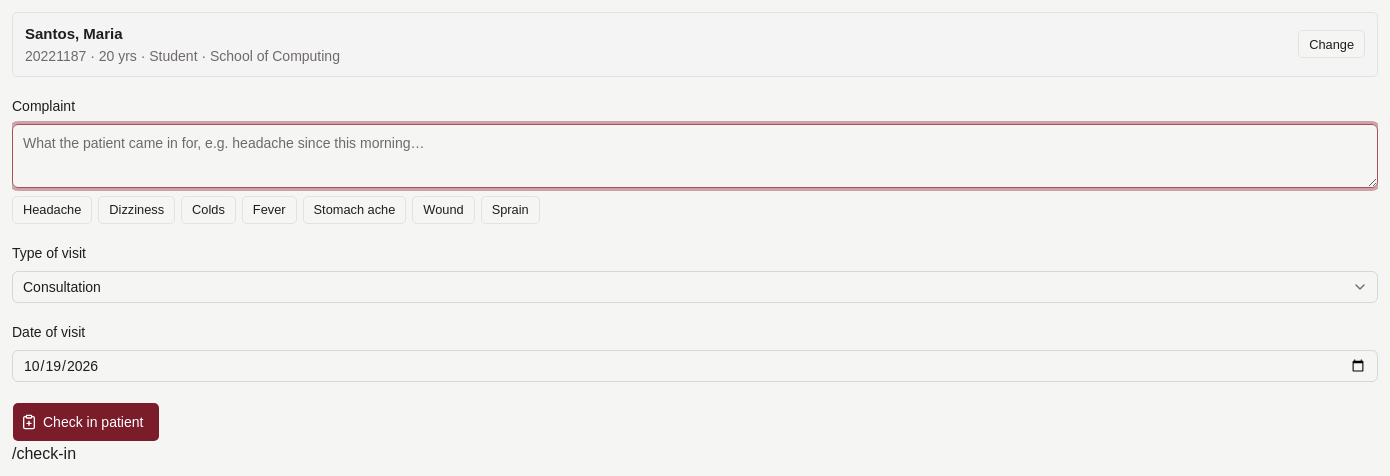
Test: starts with the patient named in the address already chosen
This screenshot has width=1390, height=476.
Check: the text "Santos, Maria" is shown, box x1=25 y1=25 x2=122 y2=42
Check: the text box labelled "Complaint" is shown, box x1=12 y1=124 x2=1378 y2=188
Click the button "Change": coordinates (1332, 44) x1=1298 y1=30 x2=1365 y2=58
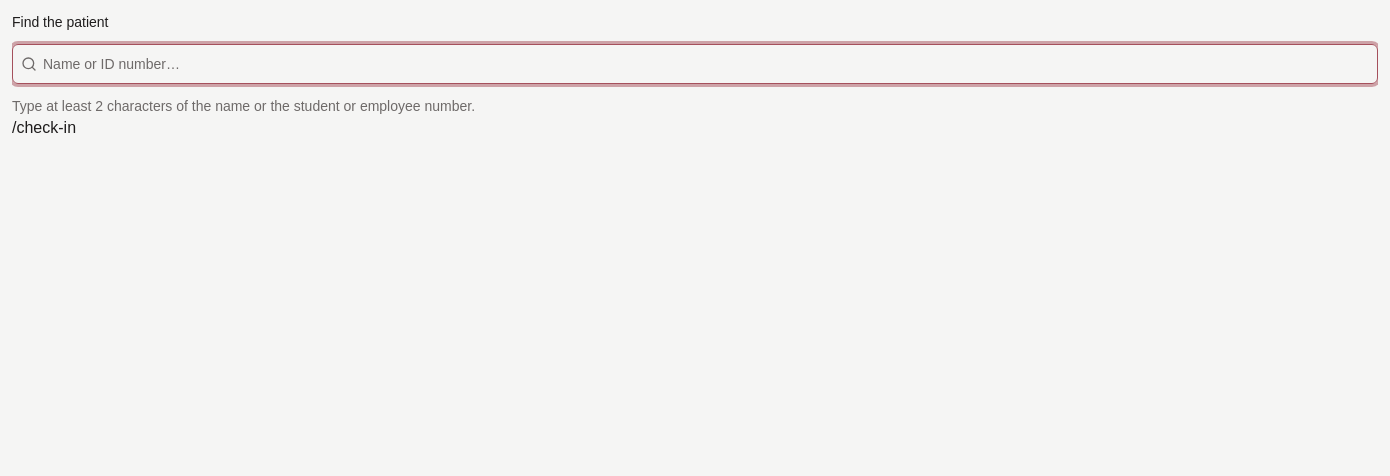
Check: the search field labelled "Find the patient" is shown, box x1=37 y1=48 x2=1377 y2=80
